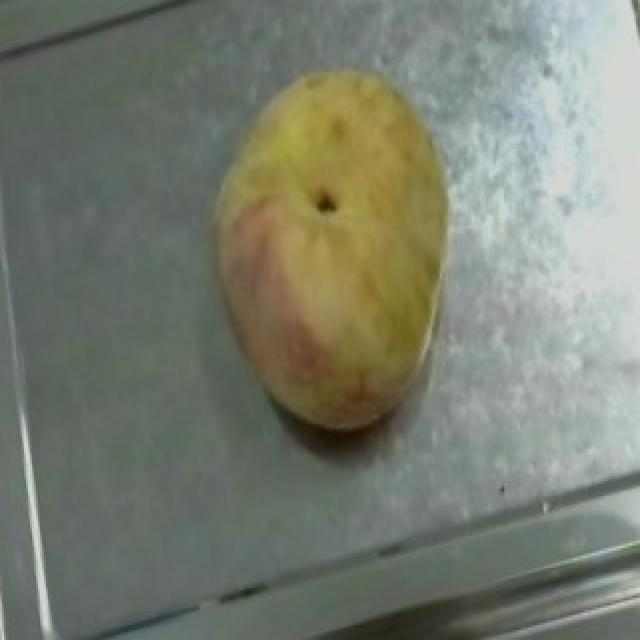Fruit: (172, 25, 496, 476)
